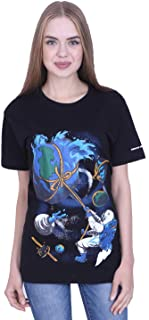tshirt: (1, 80, 146, 289)
